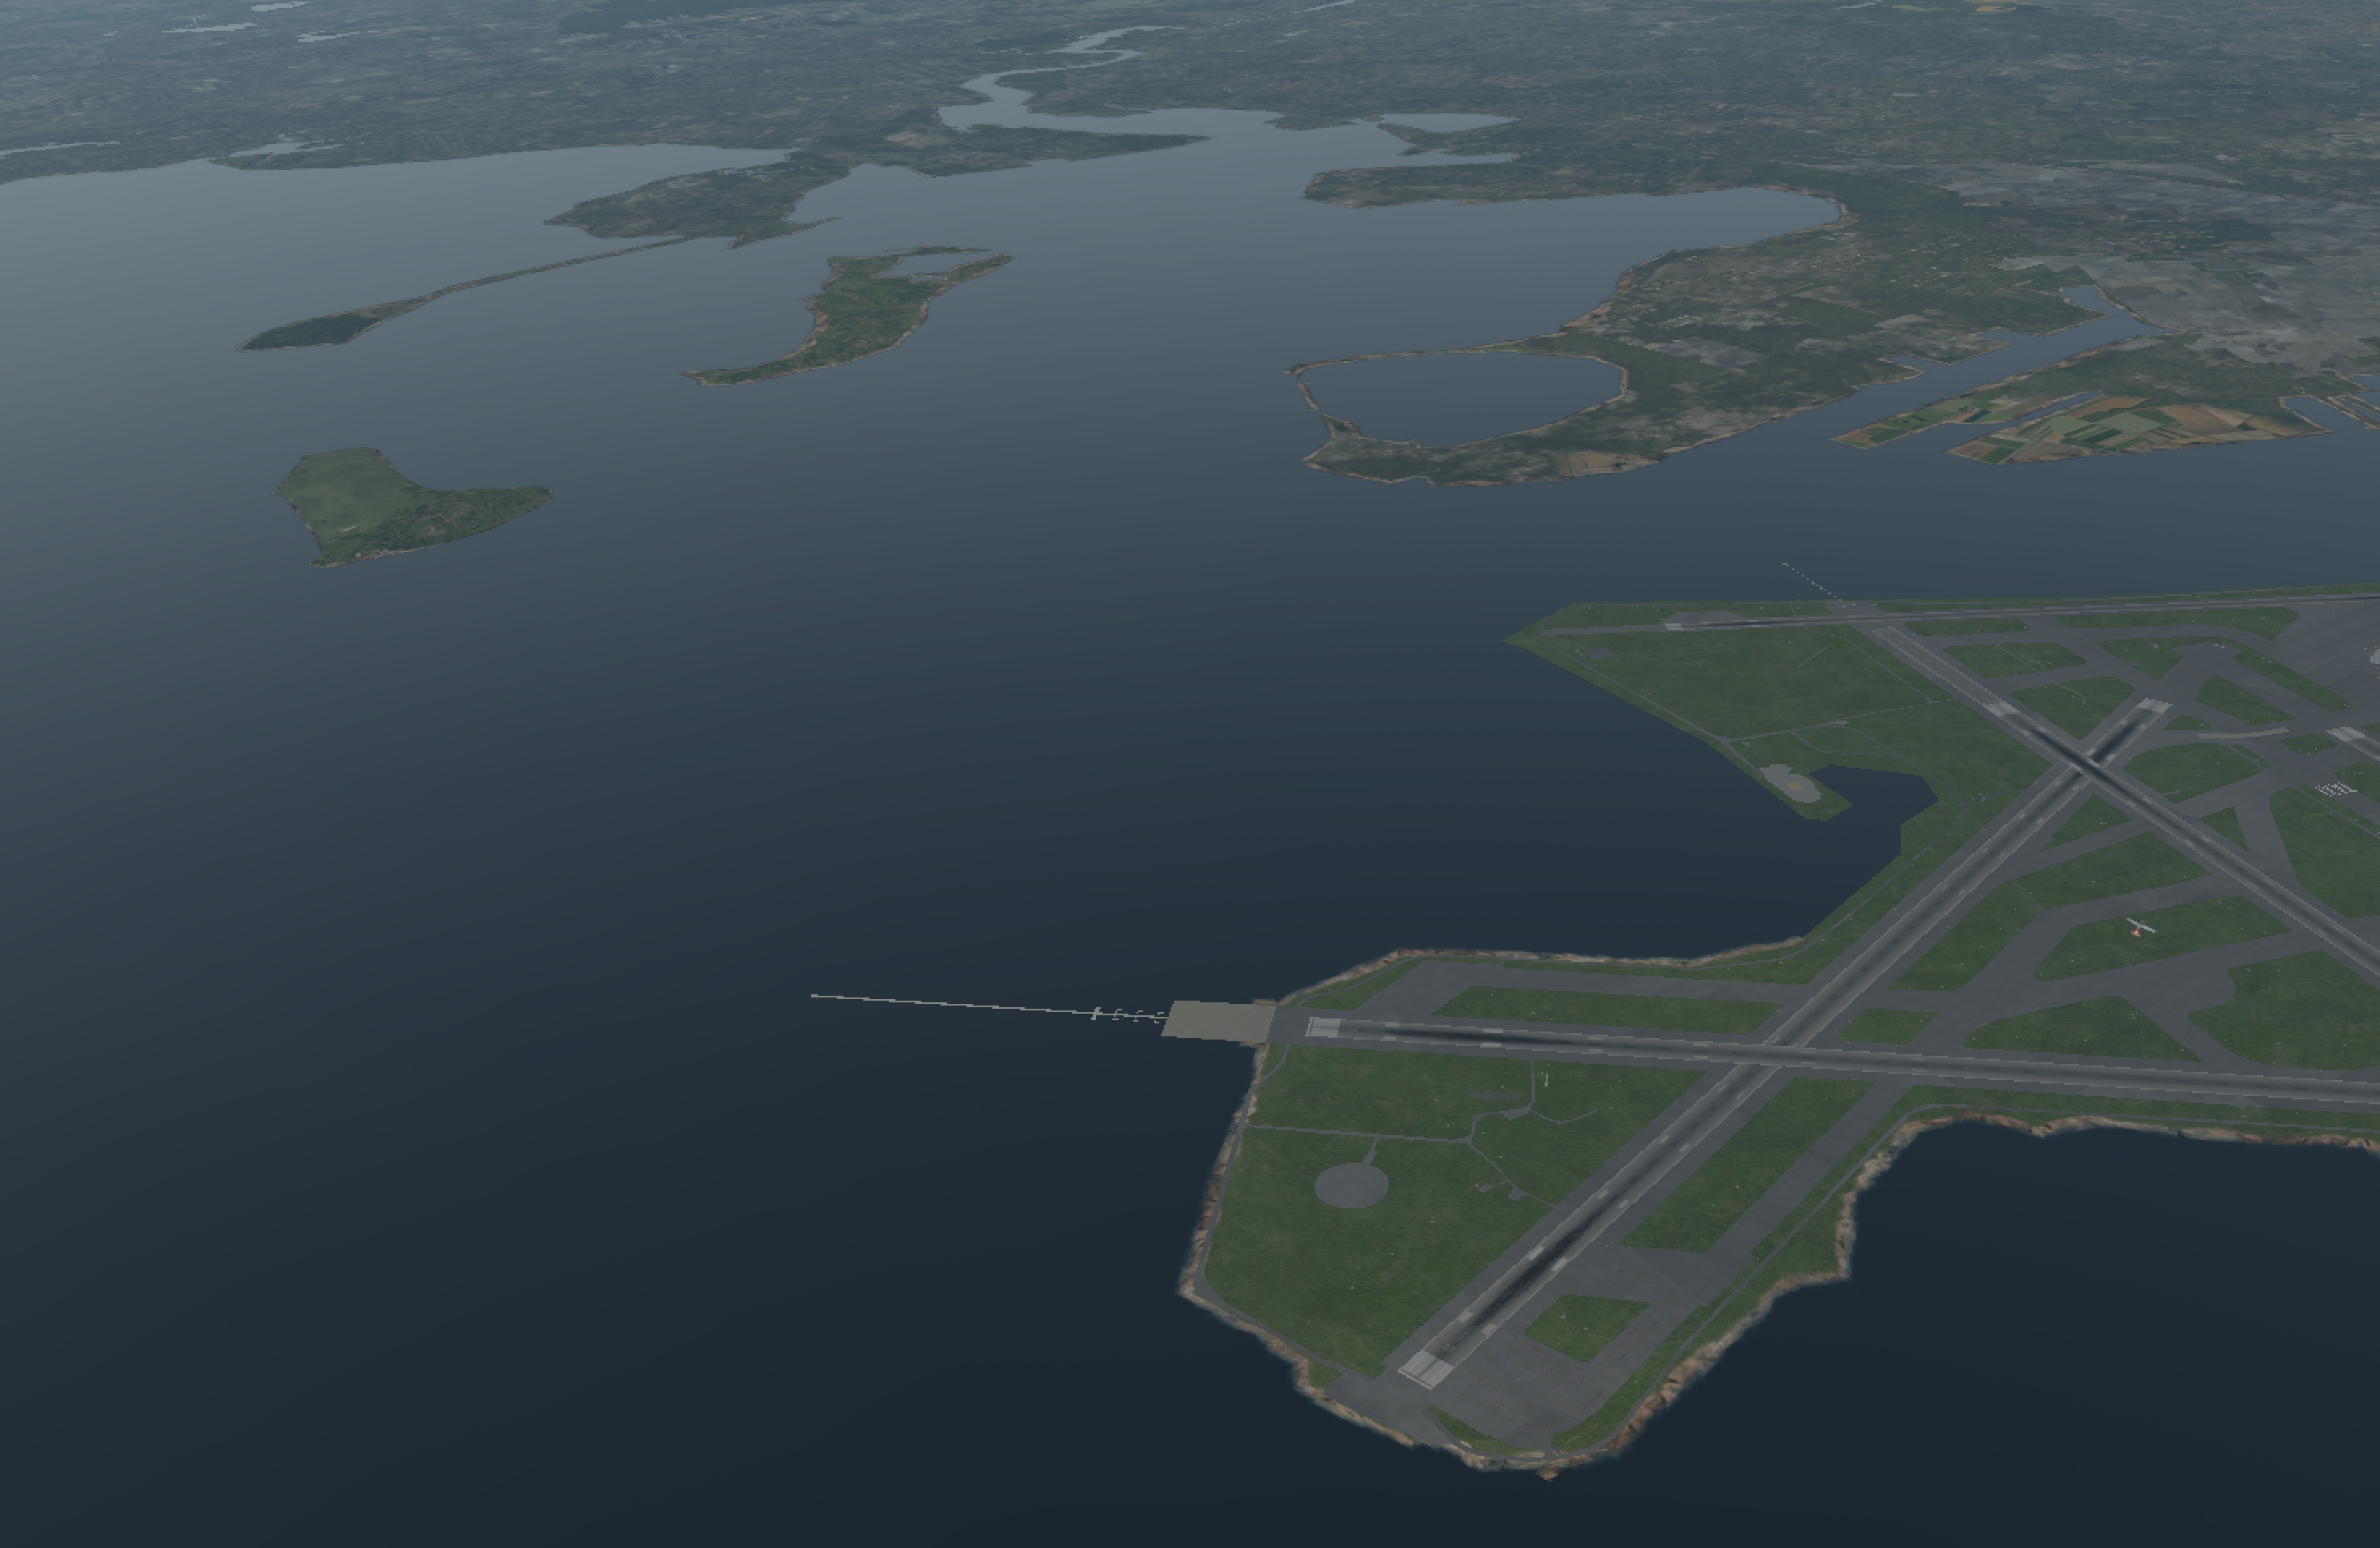aircraft: (2130, 922, 2151, 930)
